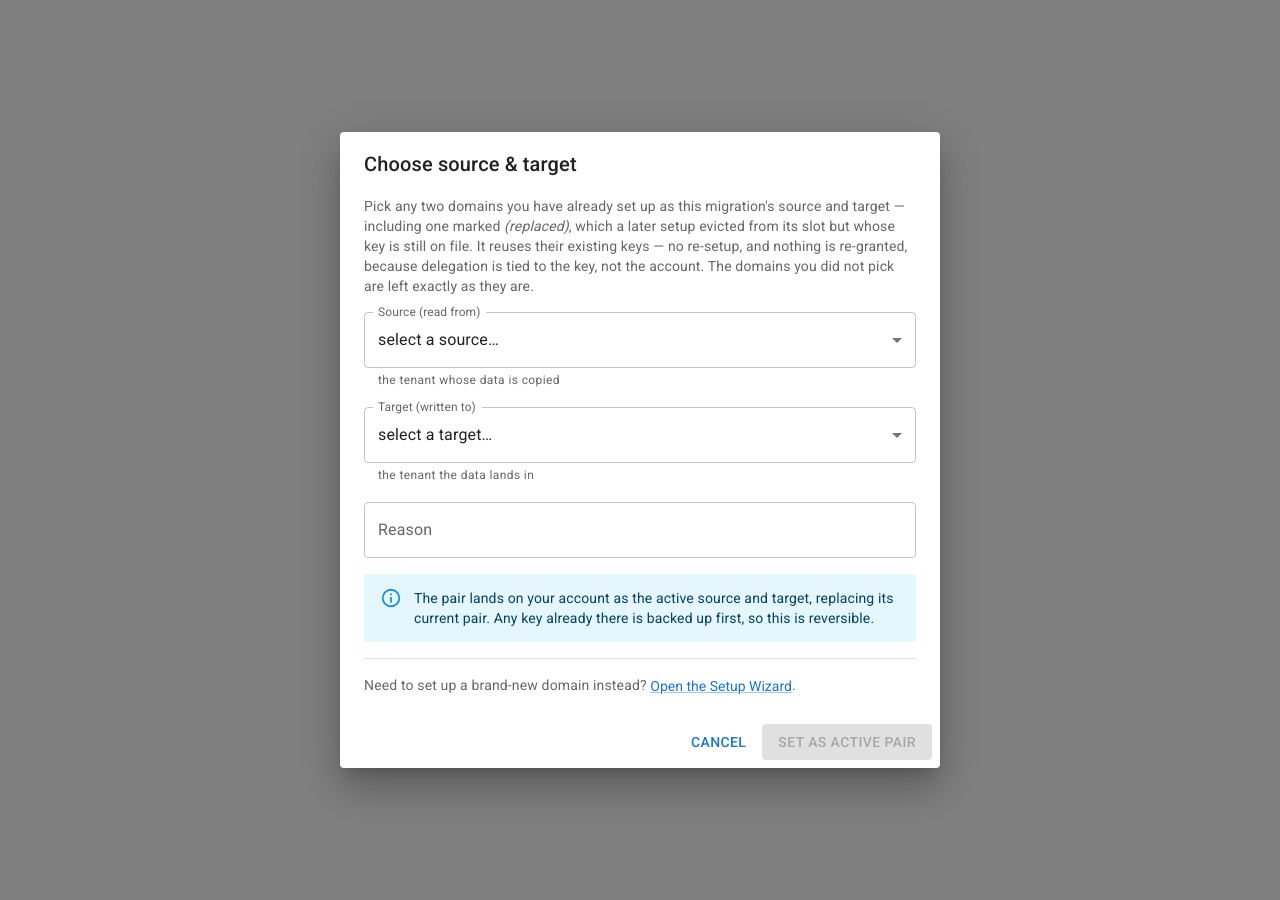
Test: LinkDomainsDialog licence-headroom warning › stays open and shows the warning on a successful-but-risky link
Select "src.example — source · a@ex.com" in the dropdown with test id "link-source" at [640, 340], box [364, 312, 916, 368]
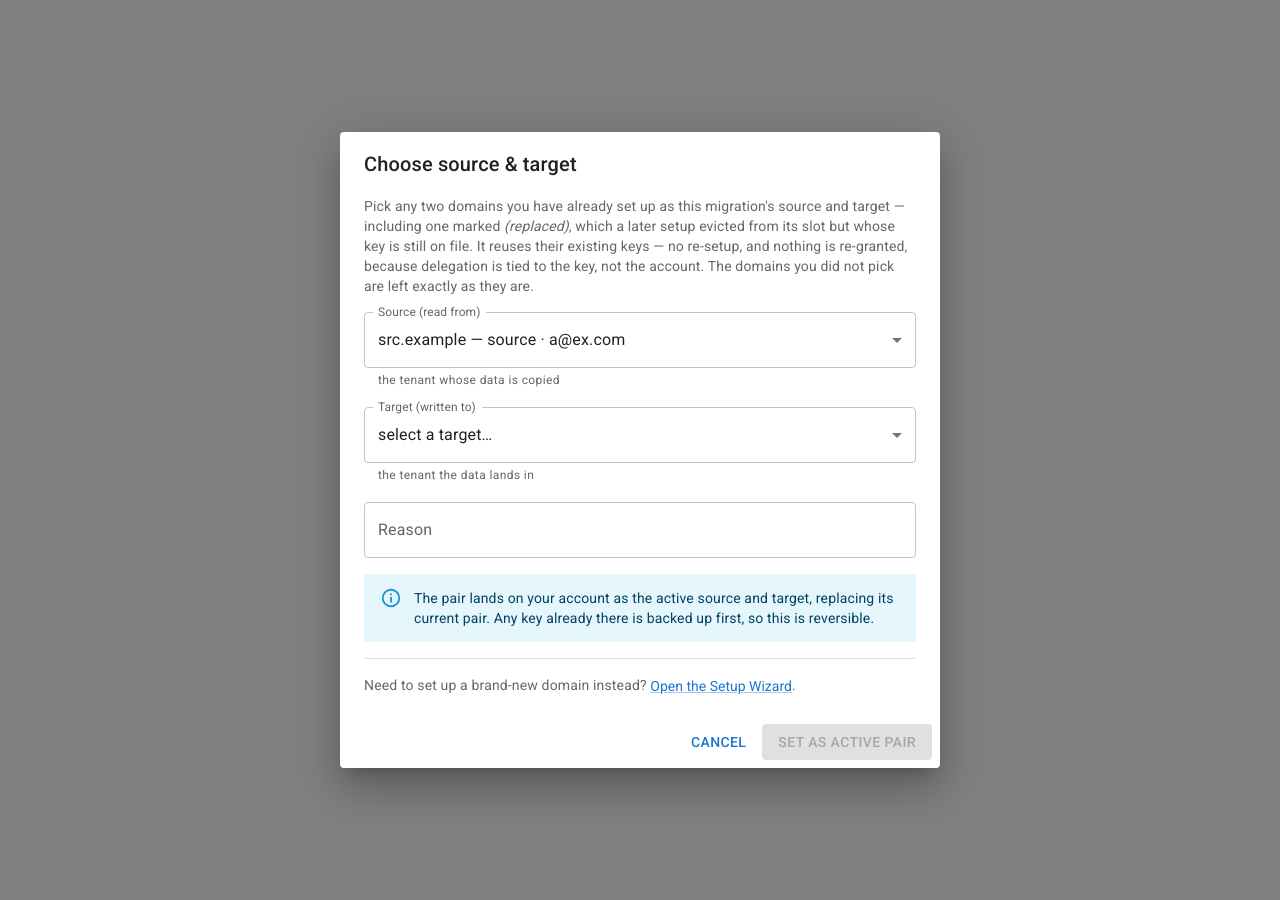
Select "tgt.example — target · b@ex.com" in the dropdown with test id "link-target" at [640, 435], box [364, 407, 916, 463]
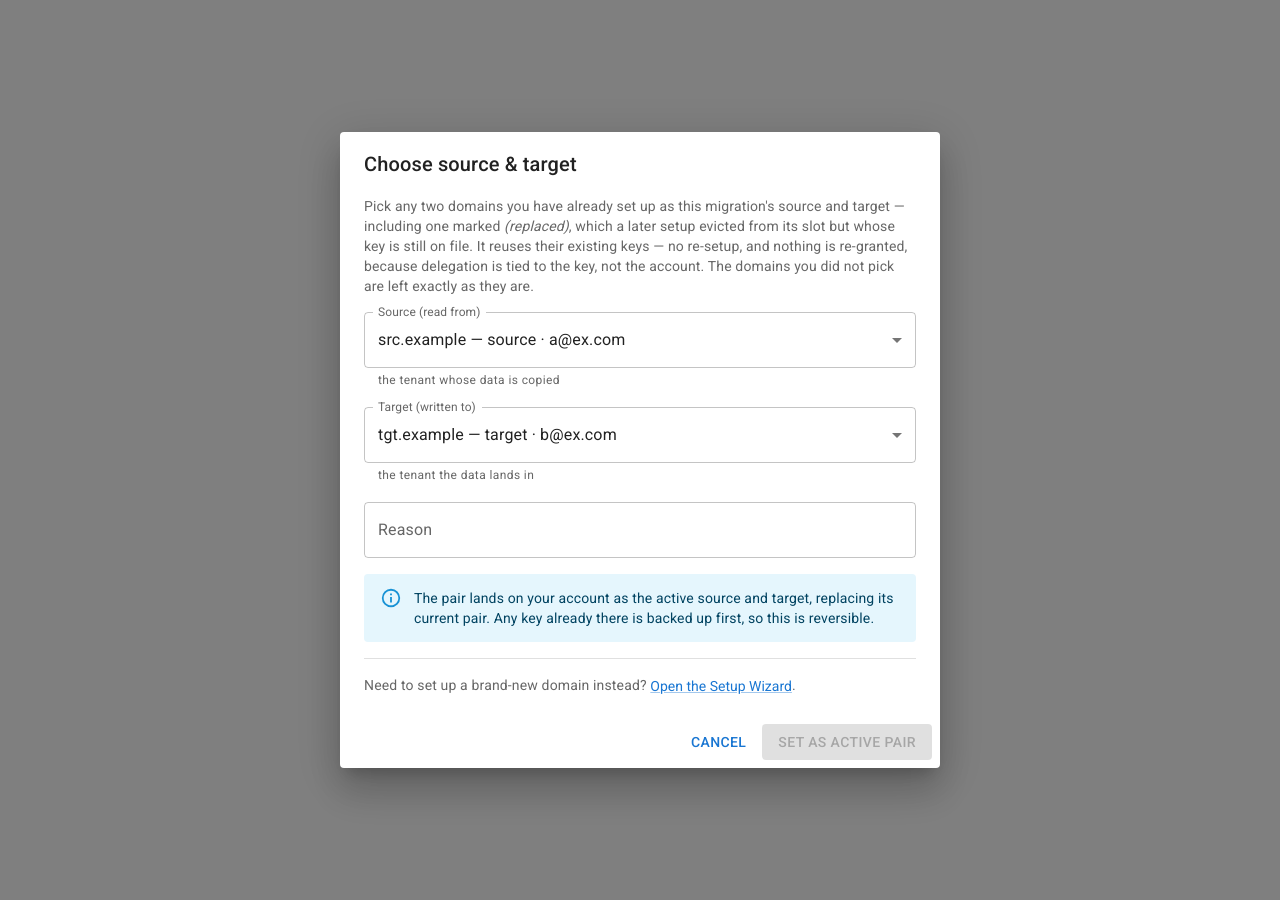
Type "test run" into the field with test id "link-reason" at [640, 530], box [364, 502, 916, 558]
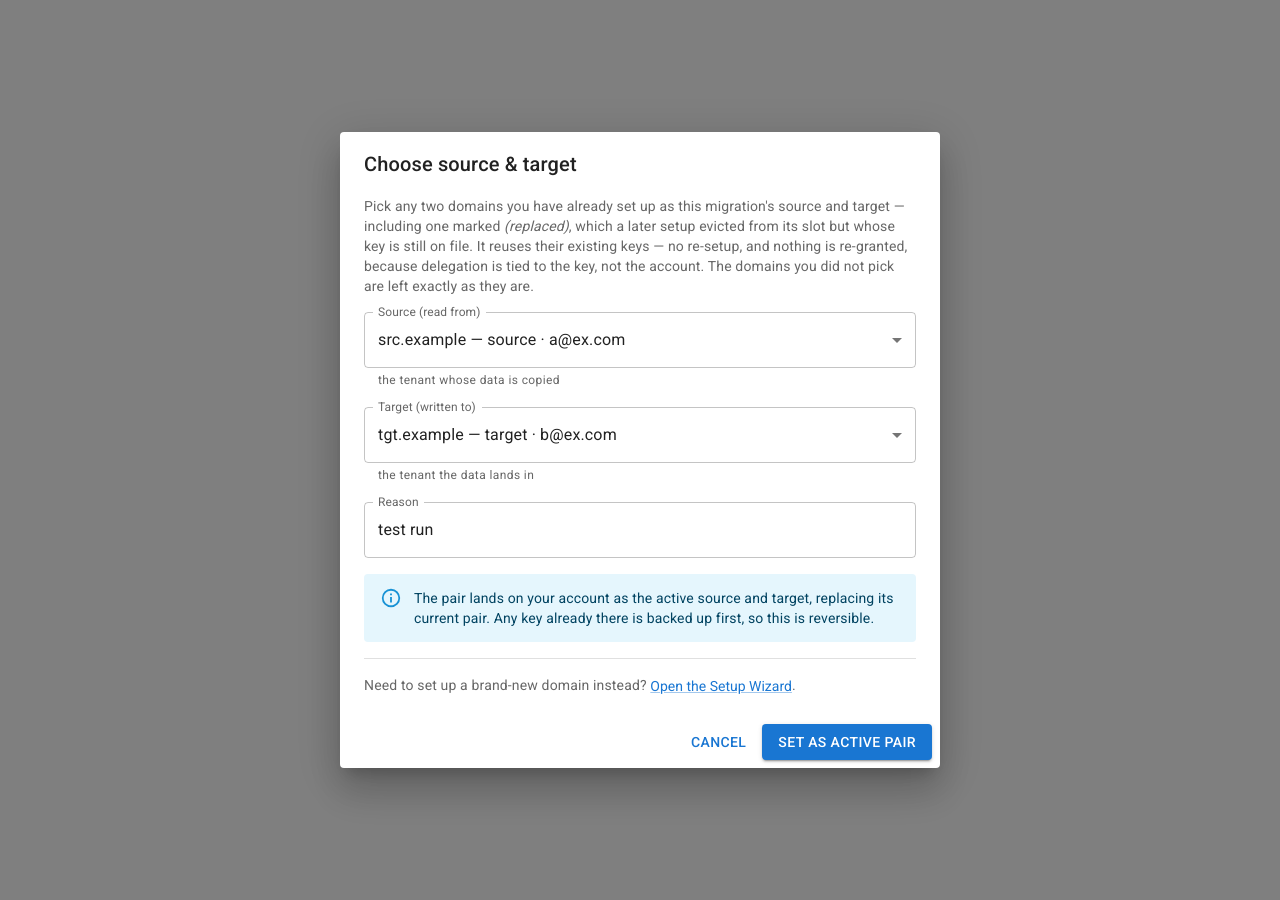
Click the button with test id "link-connect" at [847, 742], box [762, 724, 932, 760]
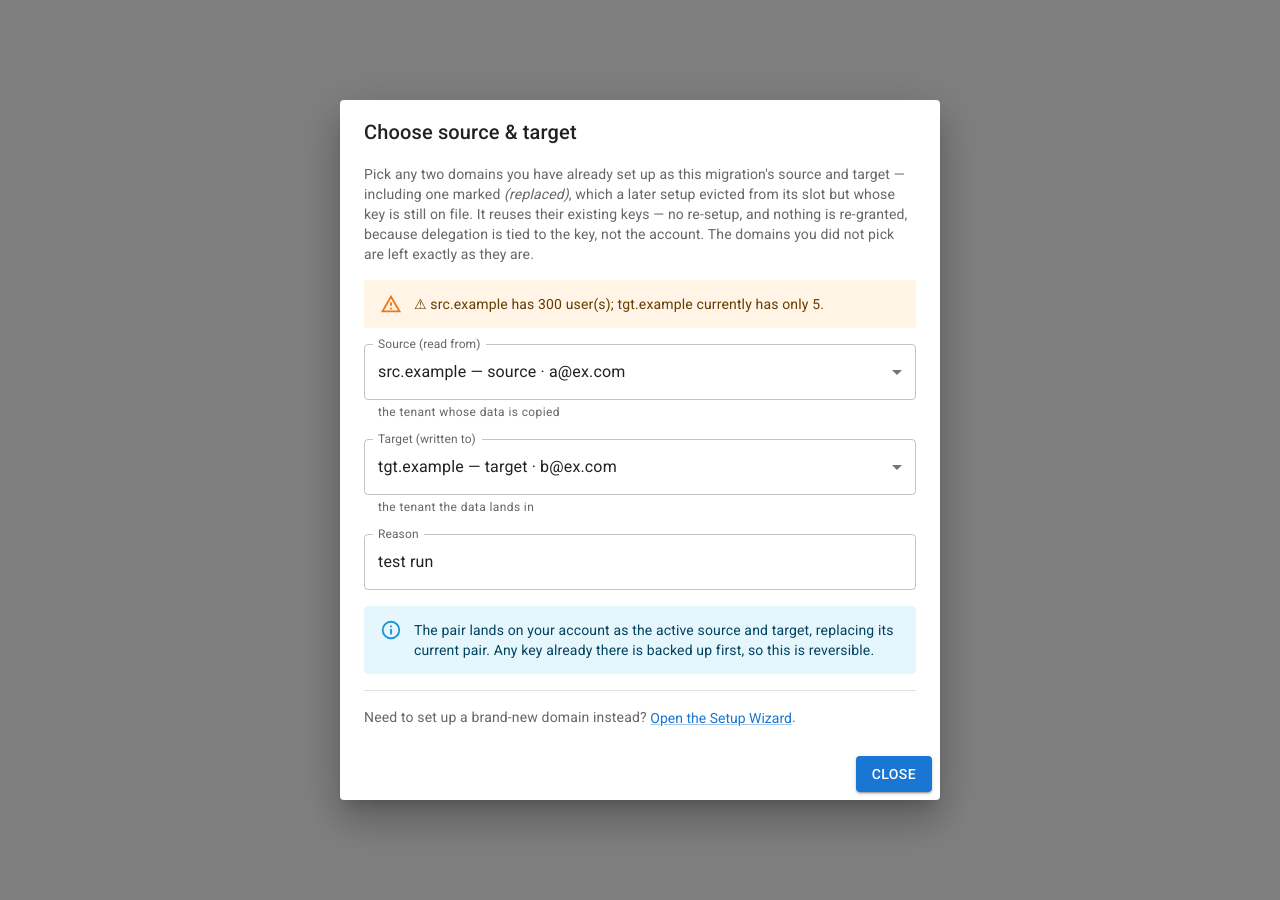
Expected: the message with test id "link-warning" shows "300 user(s)", [414, 296, 824, 312]
Expected: the button with test id "link-close" is shown, [856, 756, 932, 792]
